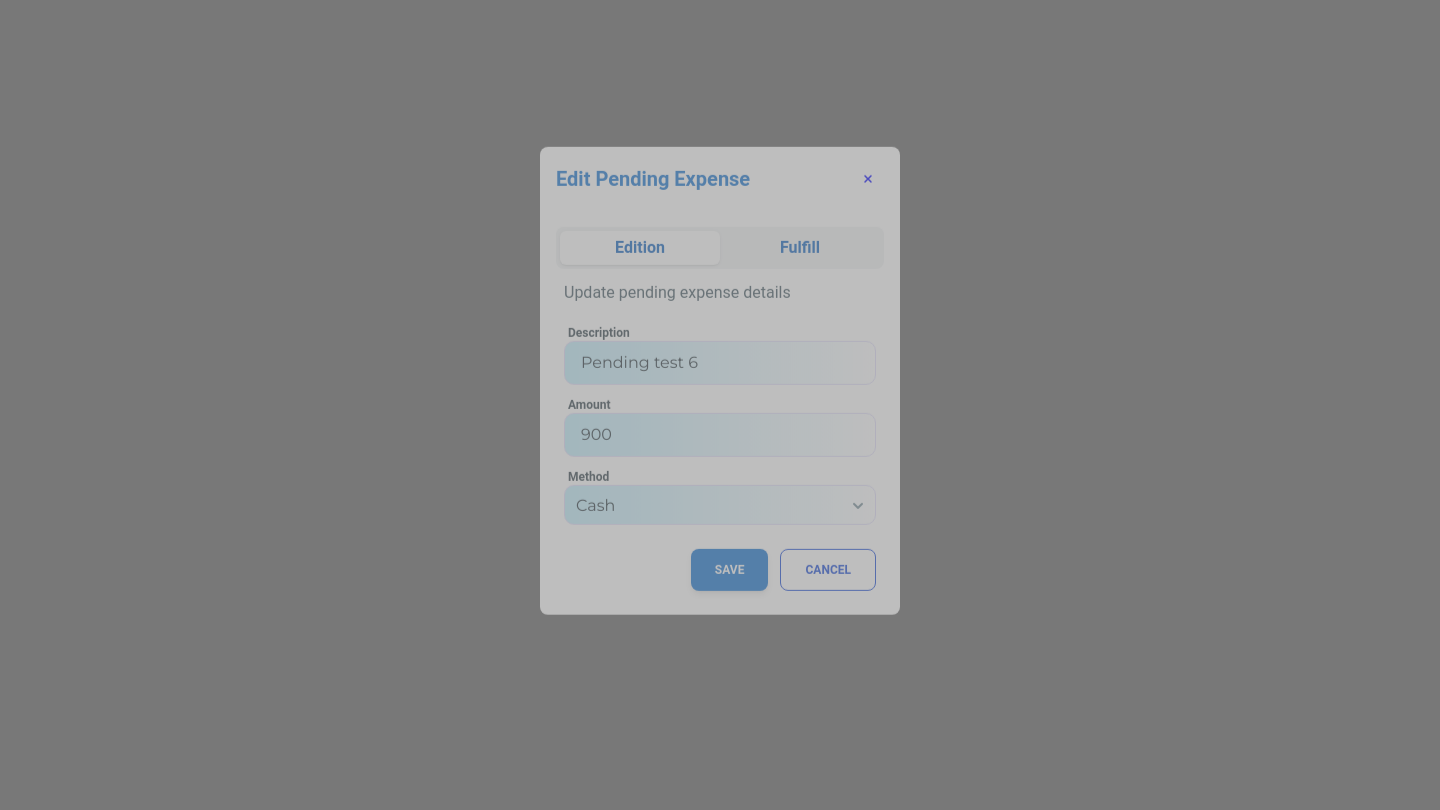
Edit Pending Expense › Validations › should display empty validation errors
Step 1. Clear the field labelled "Description" → (720, 363), box [564,341,876,385]
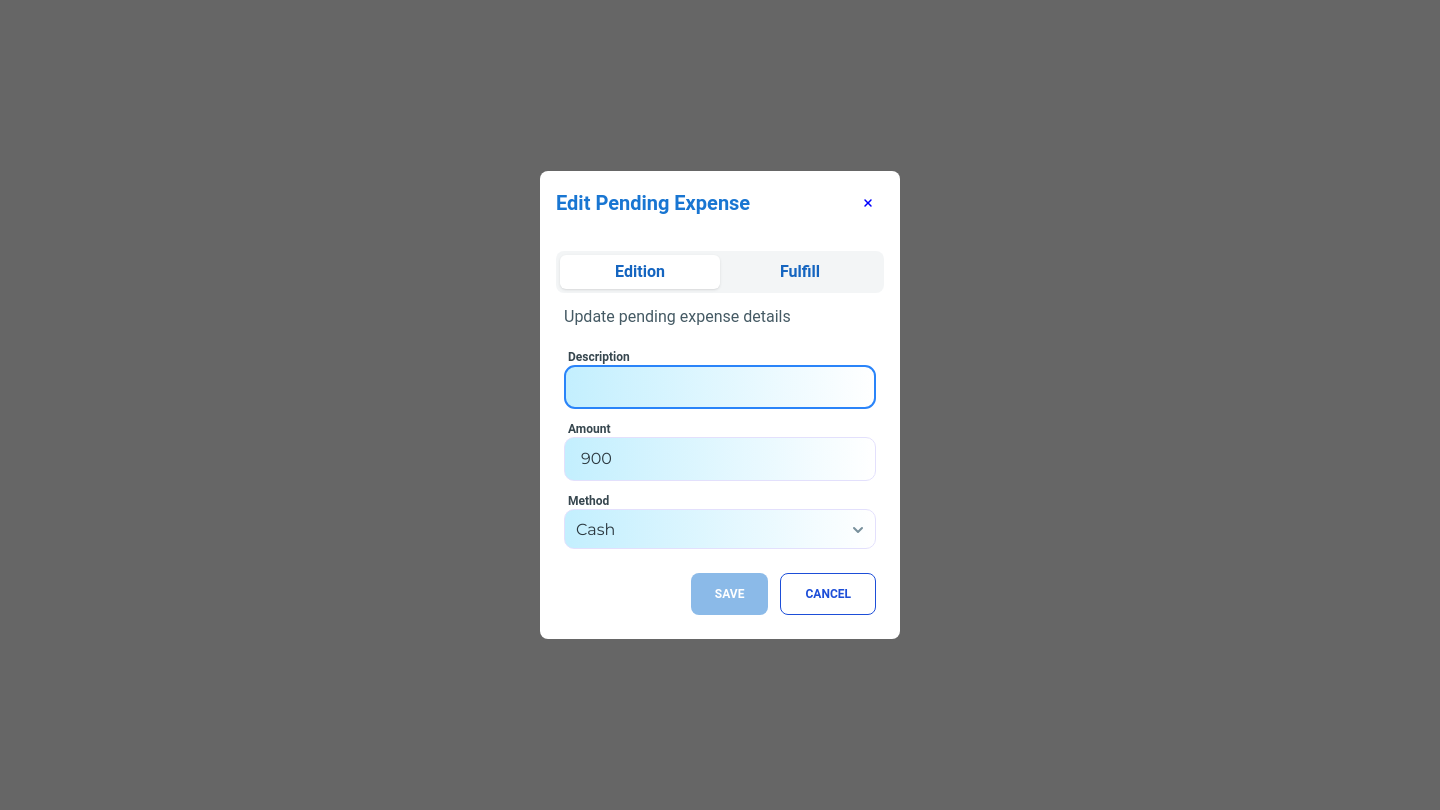
Step 2. Press Tab
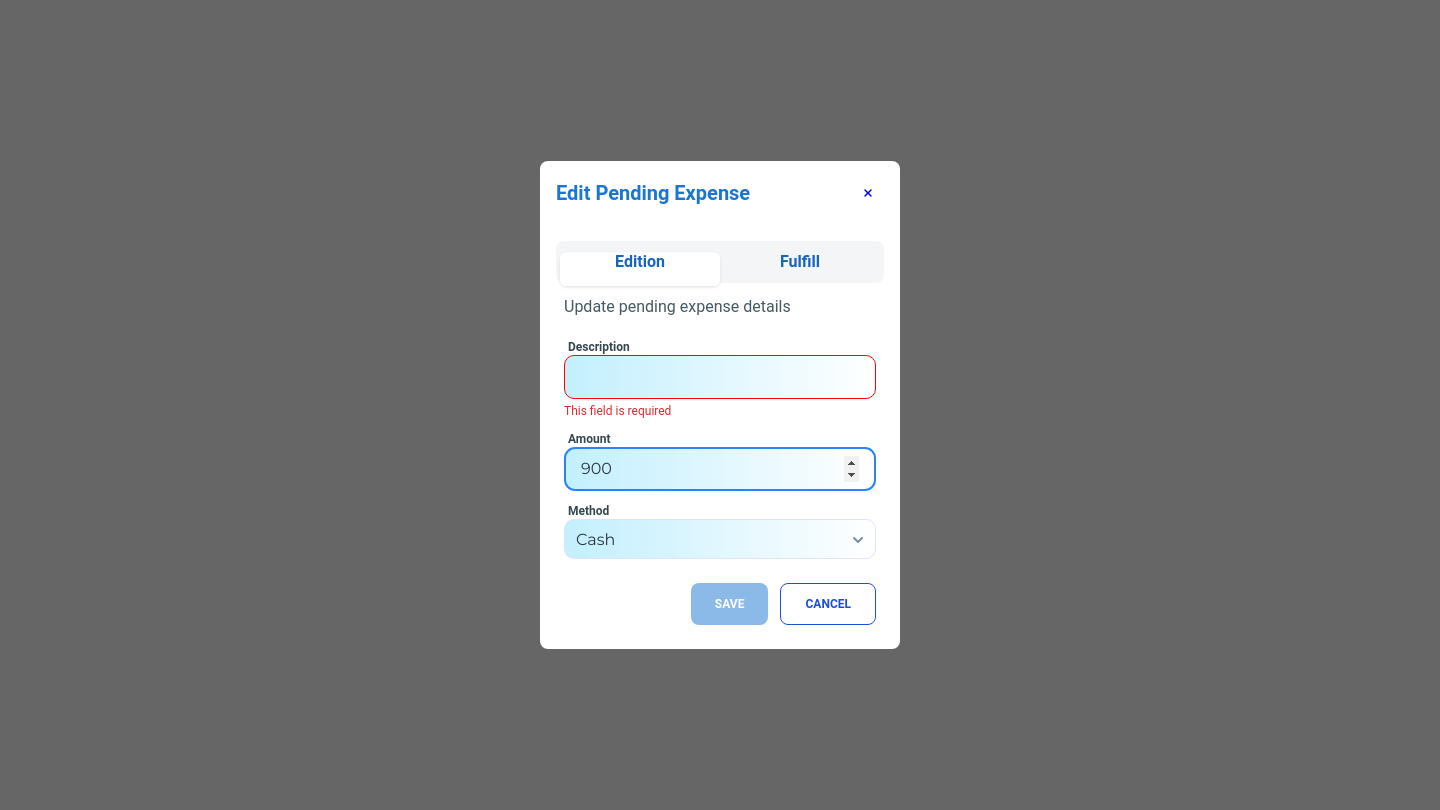
Step 3. Clear the number field labelled "Amount" → (720, 469), box [564,447,876,491]
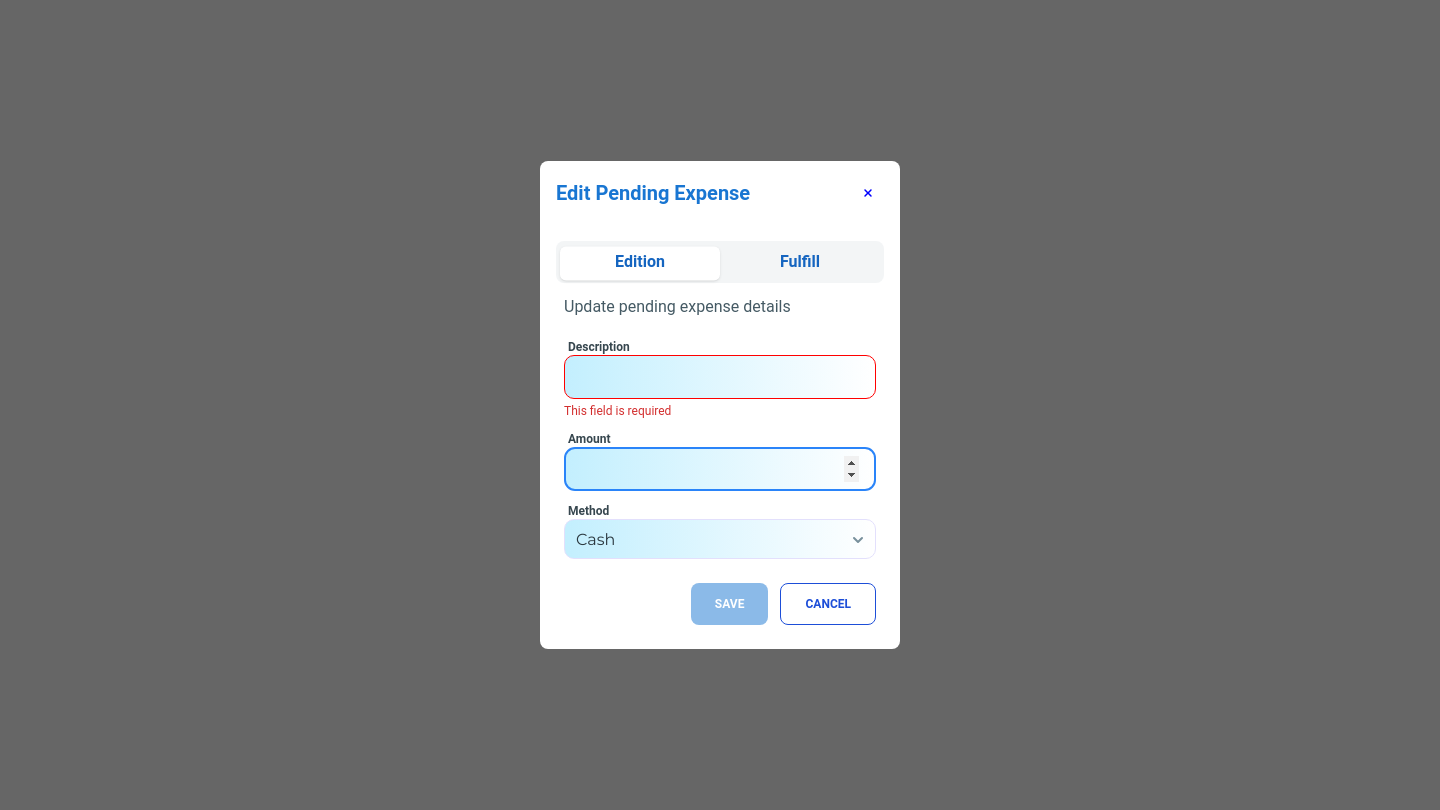
Step 4. Press Tab
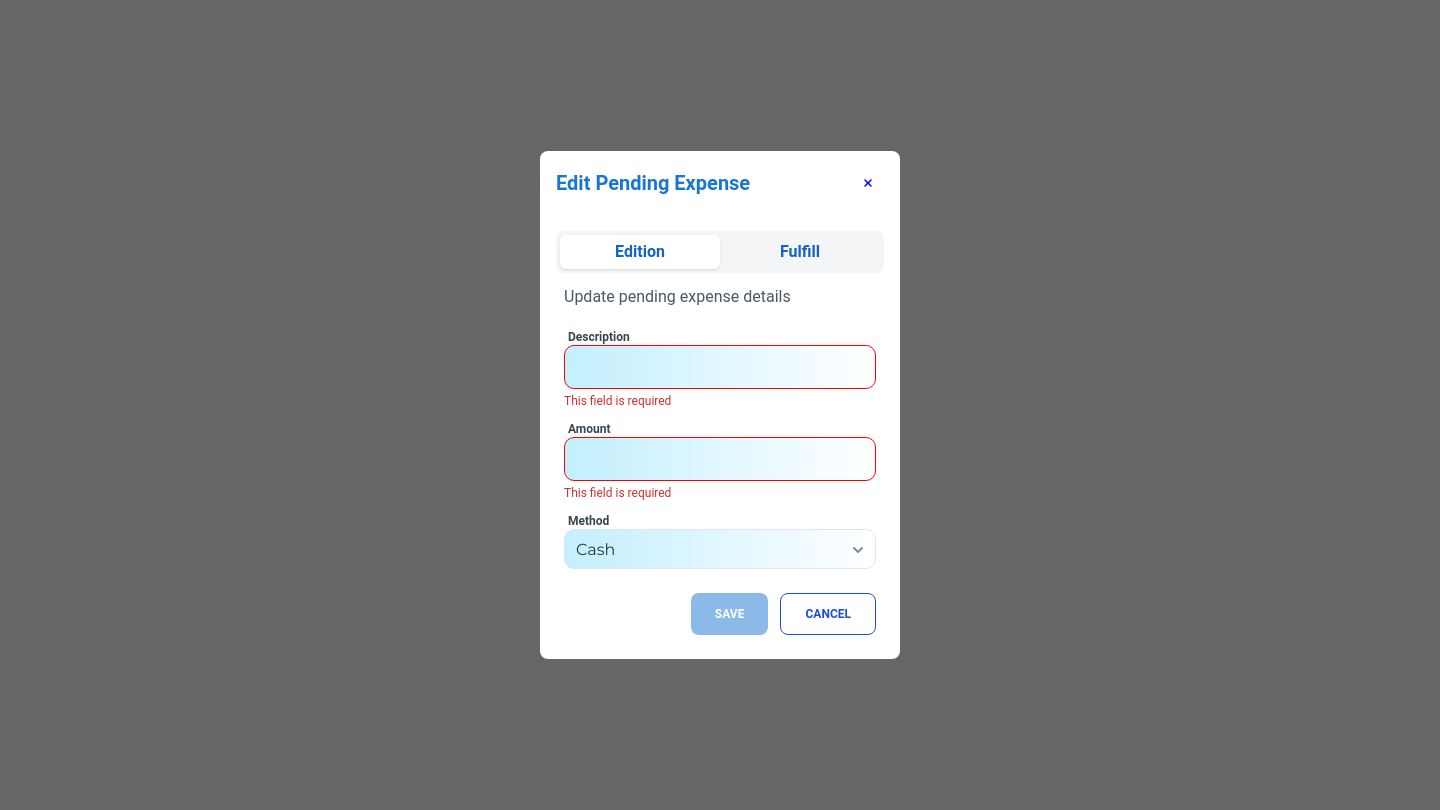
expect the button "Save" is disabled: met, box [691,593,768,635]
expect the message "This field is required" below "Description" is shown: met, box [564,394,671,408]
expect the number of messages is 2: met, box [564,394,671,408]; [564,486,671,500]
